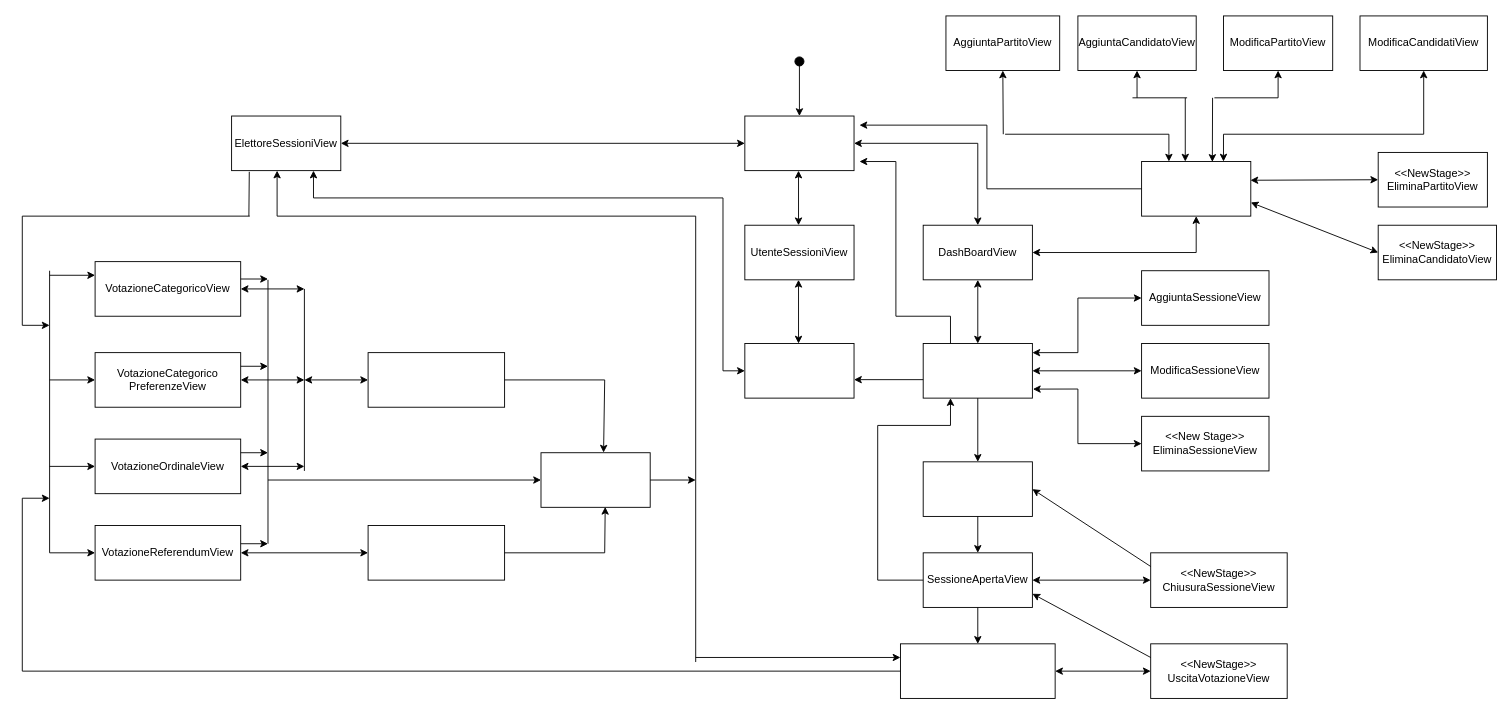
The diagram is 1512 pixels wide and 714 high, and some of its shapes have lost their labels. Here are the shapes that lost their labels. From the top down, the centre of each, then its label:
At point (799, 143): "LoginView".
At point (1196, 188): "GestoreListeView".
At point (436, 379): "<<NewStage>> ConfermaVotazioneView".
At point (799, 370): "RisultatiSessioneView".
At point (977, 370): "GestoreSessioniView".
At point (595, 479): "VotoRegistratoView".
At point (977, 488): "<<NewStage>> AvvioSessioneView".
At point (436, 552): "<<NewStage>> ConfermaVotazione ReferendumView".
At point (977, 670): "AutenticazioneSessioneView".
